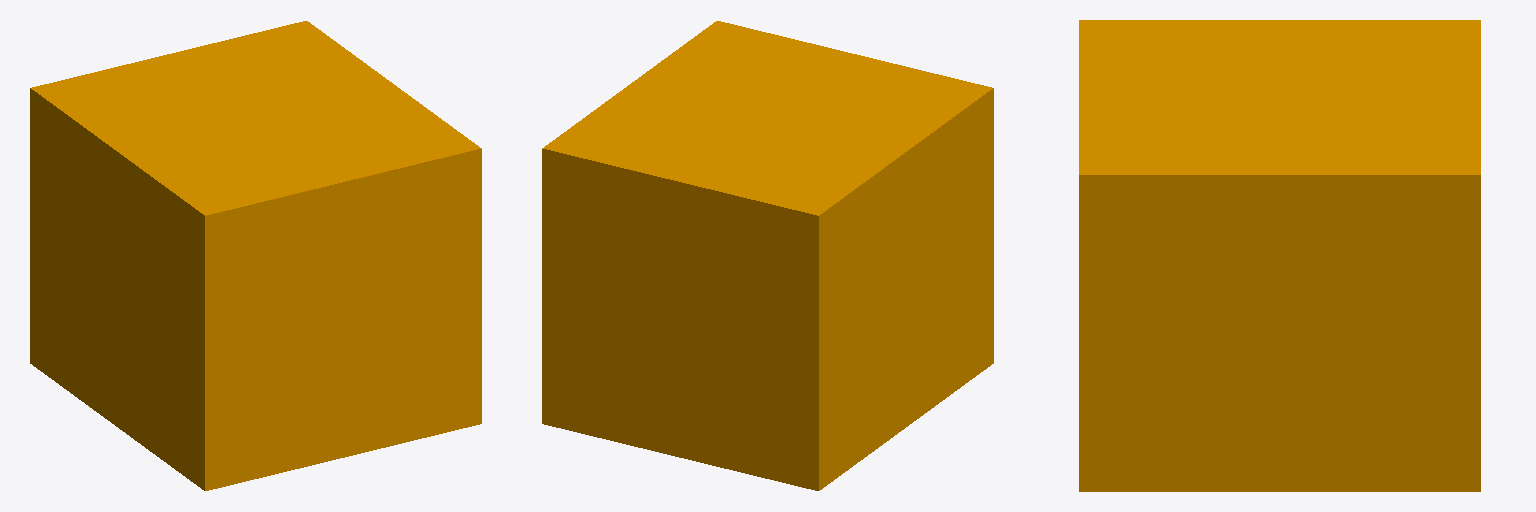
URDF robot description (object):
<robot name="object">
  <link name="object">
    <visual>
      <origin xyz="0 0 0" />
      <geometry>
        <box size="0.08400000000000002 0.09200000000000003 0.08" />
      </geometry>
    </visual>

    <collision>
      <origin xyz="0 0 0" />
      <geometry>
        <box size="0.08400000000000002 0.09200000000000003 0.08" />
      </geometry>
    </collision>

    <inertial>
      <mass value="0.05" />
      <inertia ixx="0.0001" ixy="0.0" ixz="0.0" iyy="0.0001" iyz="0.0" izz="0.0001" />
    </inertial>
  </link>
</robot>

--- What the picture shows (computed from the rendered views, not written in the file) ---
The picture shows the robot from 3 angles, left to right: view 1: azimuth 30°, elevation 25°; view 2: azimuth 150°, elevation 25°; view 3: azimuth 270°, elevation 25°; orthographic projection.
Robot: object — 1 links, 0 joints (none); root link object; default pose: every joint at zero.
Visible links, largest first — view 1: object; view 2: object; view 3: object.
Boxes of the visible links, <box> form: object: <box>30,21,481,490</box>; object: <box>542,21,993,490</box>; object: <box>1079,20,1480,491</box>.
Bounding box of the posed robot: 0.084 × 0.092 × 0.08 m (x, y, z).
Geometry: primitives only (box / cylinder / sphere), no mesh files.